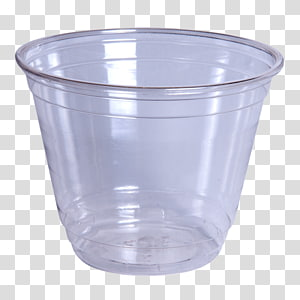plastic_glass: (11, 20, 290, 281)
